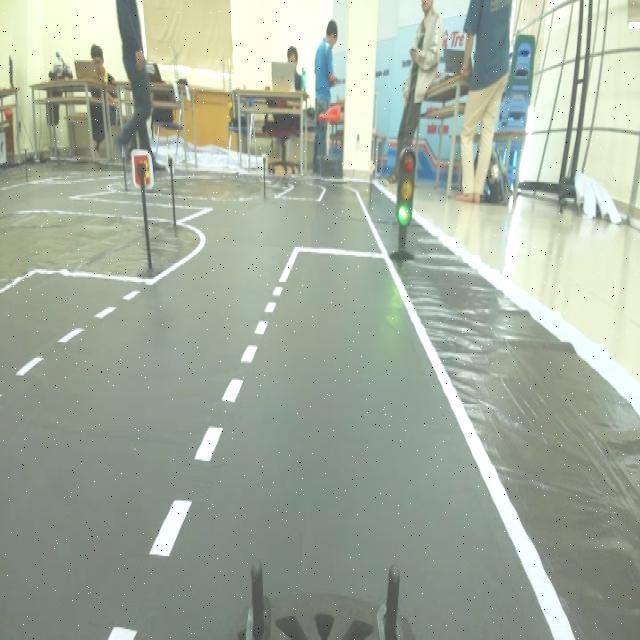trafficlight: (382, 136, 427, 277)
